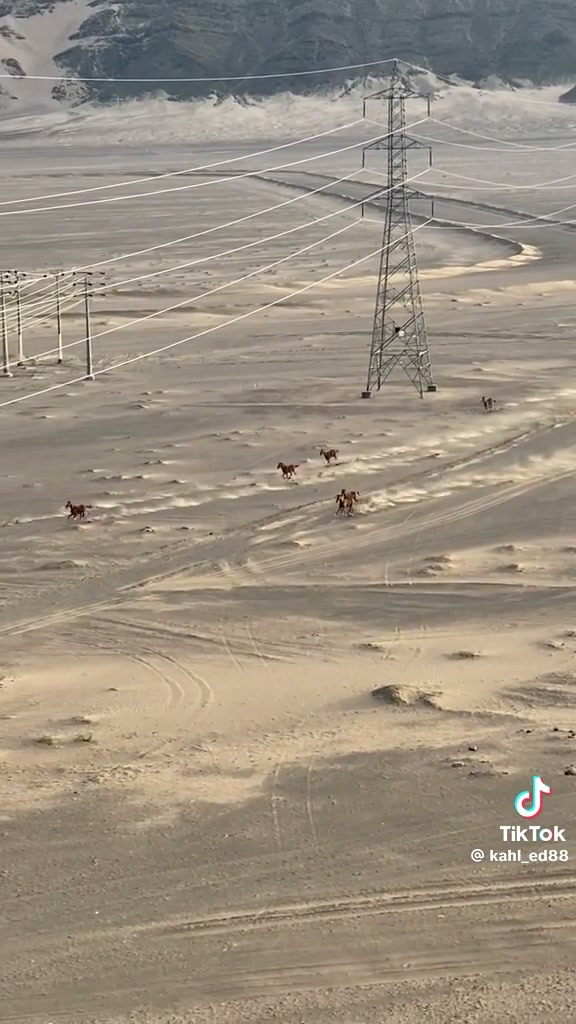animal: (336, 489, 359, 514), (65, 500, 91, 519), (277, 462, 297, 479), (319, 448, 337, 464), (481, 396, 495, 410)
vehicle_track: (0, 509, 286, 635), (152, 873, 575, 933), (353, 470, 573, 554), (76, 638, 212, 710)
